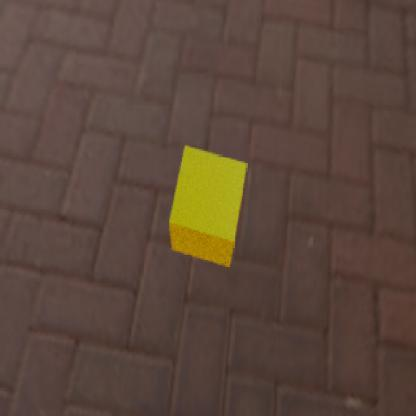cube: (168, 144, 246, 267)
